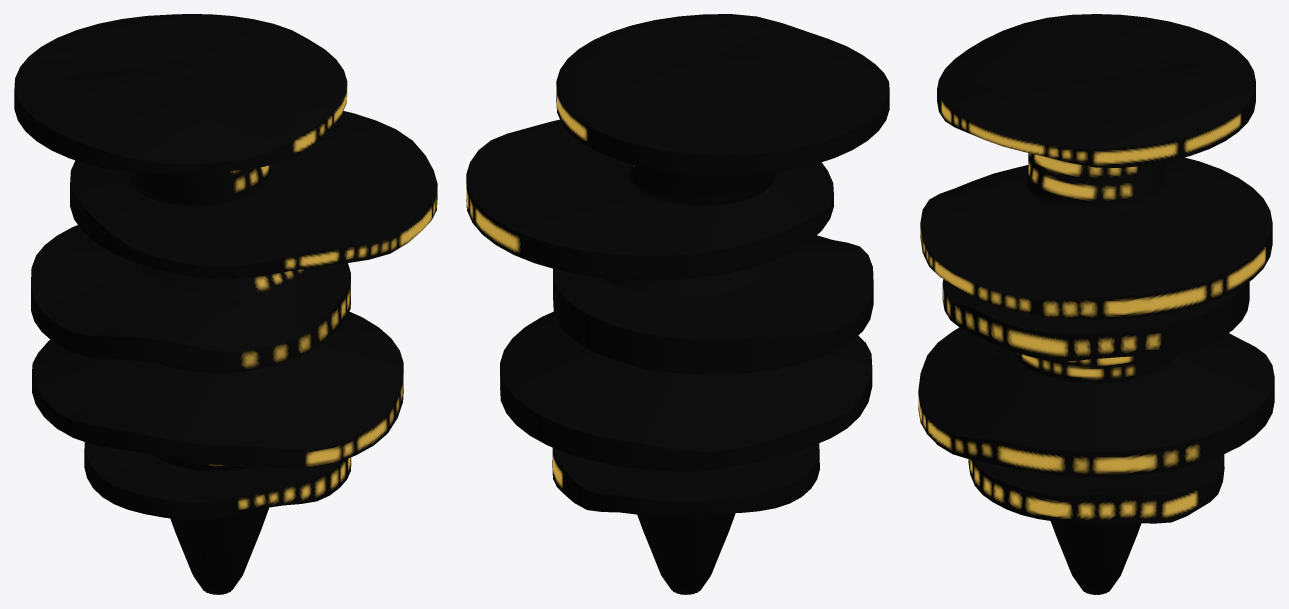
The model's file is Mushroom_02.fbx.
3 views of the same model, side by side, from view 1: azimuth 30°, elevation 25°; view 2: azimuth 150°, elevation 25°; view 3: azimuth 270°, elevation 25° (orthographic). The views are drawn at different scales.
Visible parts, largest first — view 1: pCylinder6; view 2: pCylinder6; view 3: pCylinder6.
Part boxes in pixels (x1,y1,x2,y2): pCylinder6: [14, 14, 437, 594]; pCylinder6: [466, 14, 889, 594]; pCylinder6: [918, 14, 1274, 594].
Bounding box in the file's own units: 5.98 × 8.03 × 5.12.
